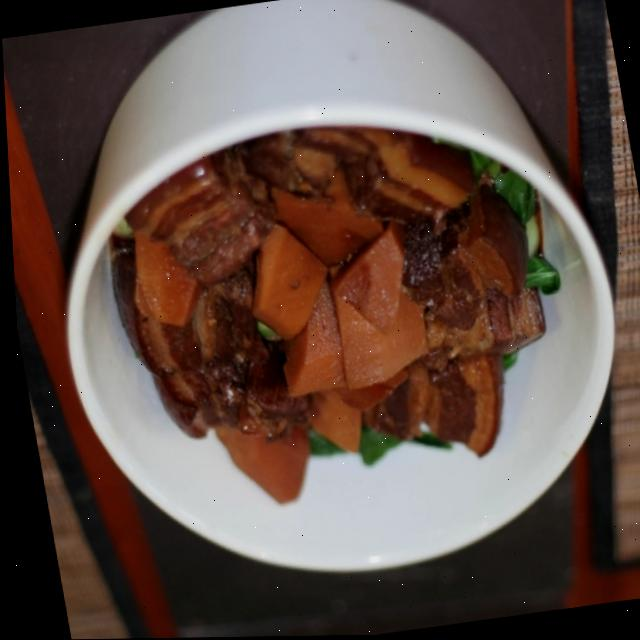牛肉菜式: (43, 26, 626, 579)
